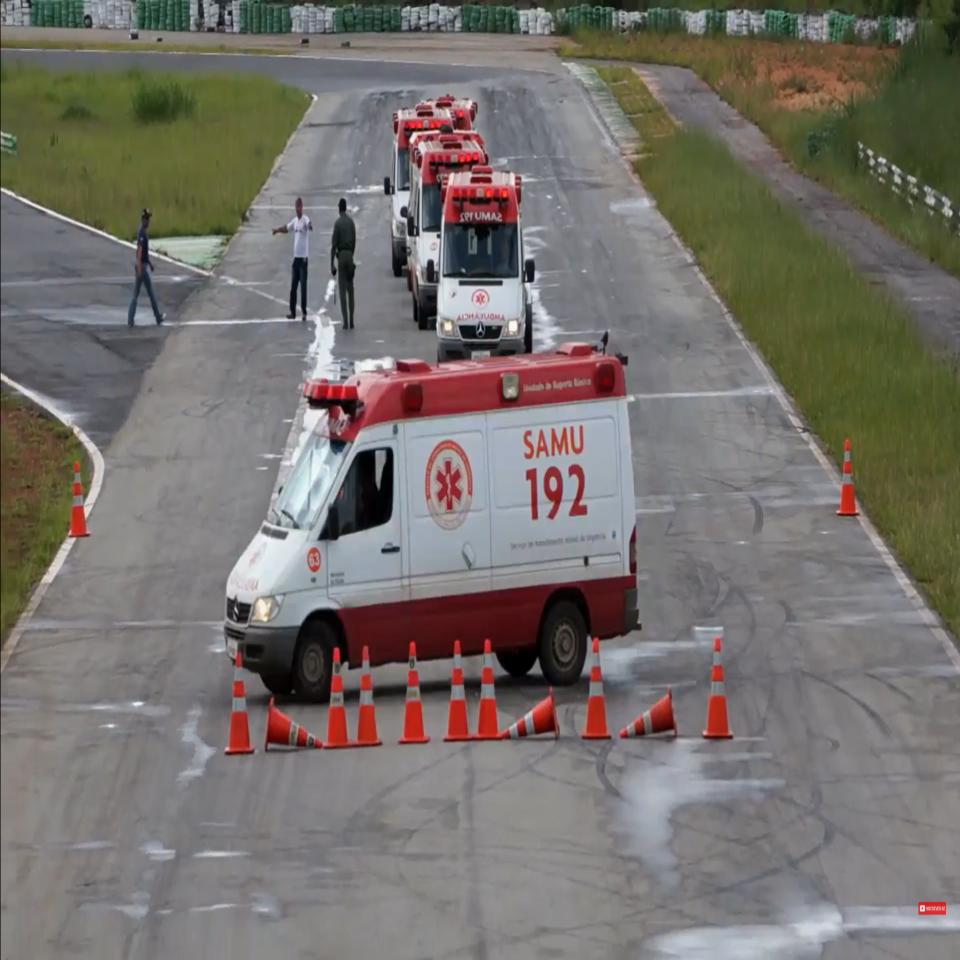ambulancia: (224, 340, 643, 702), (428, 164, 535, 365)
